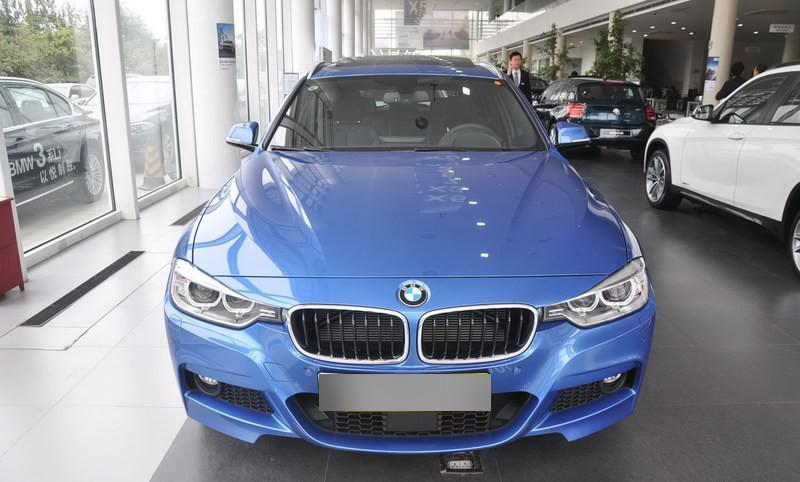Wagon: (162, 53, 658, 456)
